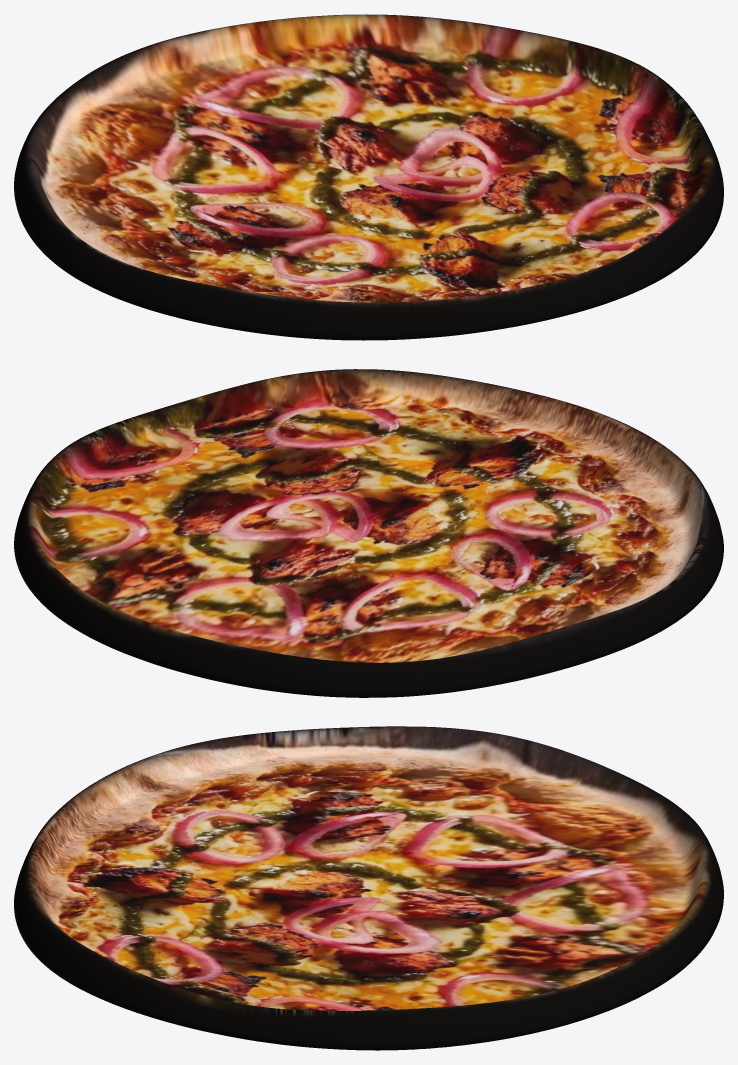
The model's file is chicken-tikka-pizza-balanced.glb.
3 views of the same model, one above another, from view 1: azimuth 30°, elevation 25°; view 2: azimuth 150°, elevation 25°; view 3: azimuth 270°, elevation 25° (orthographic).
Visible parts, largest first — view 1: Chicken_Pizza_True_3D_Master; view 2: Chicken_Pizza_True_3D_Master; view 3: Chicken_Pizza_True_3D_Master.
Boxes of the visible parts, x1,y1,x2,y2 form: Chicken_Pizza_True_3D_Master: (14,14,723,340); Chicken_Pizza_True_3D_Master: (14,369,723,697); Chicken_Pizza_True_3D_Master: (14,726,723,1050).
Size of the model in its own units: 2.39 by 0.1358 by 2.37.
Materials: 1 (1 with a texture image).
